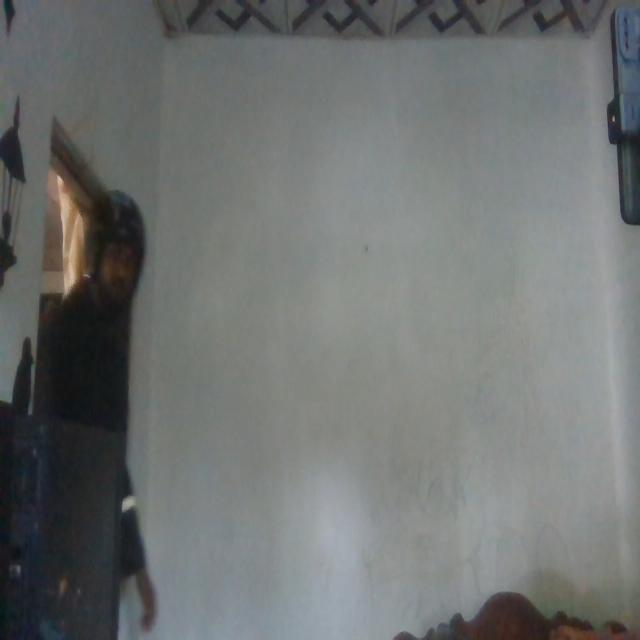Helmet_Wearer: (92, 190, 144, 307)
Jacket_Wearer: (53, 273, 151, 578)
Person: (36, 184, 158, 639)
